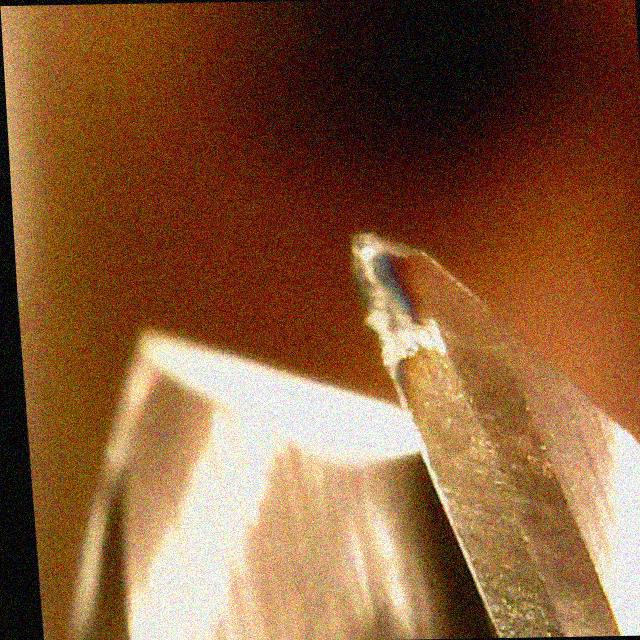Tool-wear-class-1: (328, 227, 549, 558)
